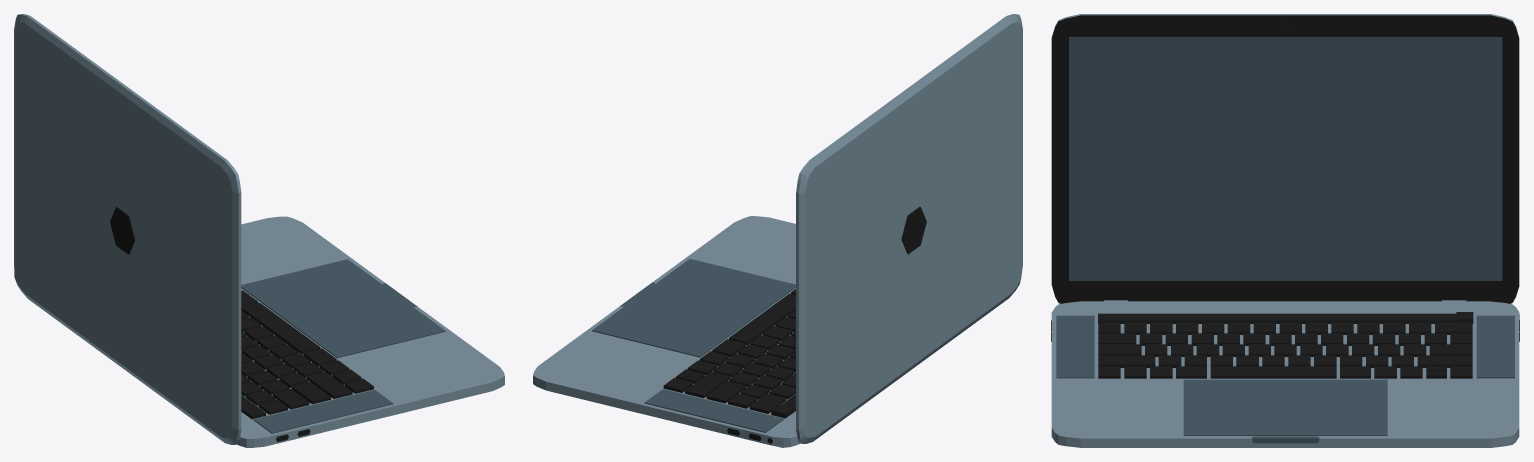
Rendered from mac.glb.
3 renders of one model, left to right at view 1: azimuth 30°, elevation 25°; view 2: azimuth 150°, elevation 25°; view 3: azimuth 270°, elevation 25°, orthographic. The views are drawn at different scales.
Visible parts, largest first — view 1: group485226736; view 2: group485226736; view 3: group485226736.
Part boxes in pixels (bbox=[...]): group485226736: bbox=[14, 14, 504, 447]; group485226736: bbox=[533, 14, 1022, 447]; group485226736: bbox=[1051, 14, 1519, 447].
Size of the model in its own units: 0.6997 by 0.694 by 0.9767.
